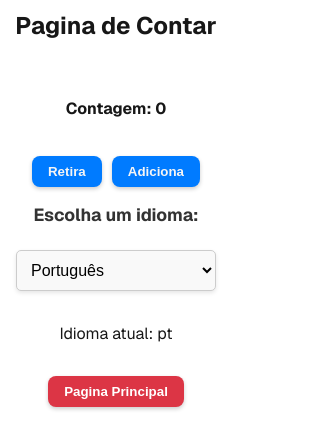
it: end2end testes › decrement the count
The width and height of the screenshot is (320, 428).
Click the button with test id "decrement": (67, 172) 32,156 -> 102,187
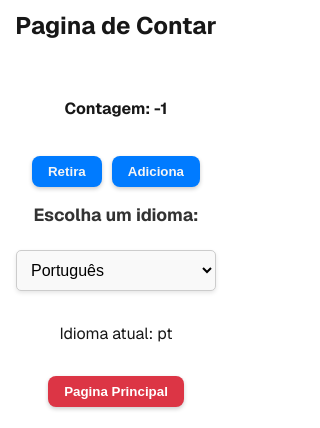
Expected: the heading "Contagem: -1" is shown, 64,98 -> 168,119
Expected: the heading with test id "count-value" reads "Contagem: -1", 65,98 -> 168,119
Click the button with test id "decrement": (67, 172) 32,156 -> 102,187
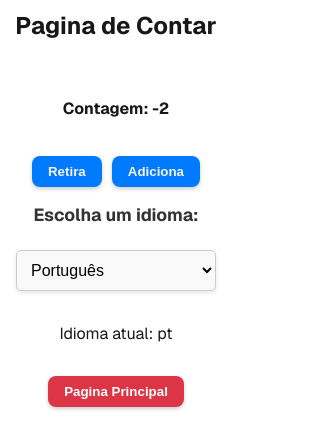
Expected: the heading "Contagem: -2" is shown, 63,98 -> 169,119
Expected: the heading with test id "count-value" reads "Contagem: -2", 63,98 -> 170,119
